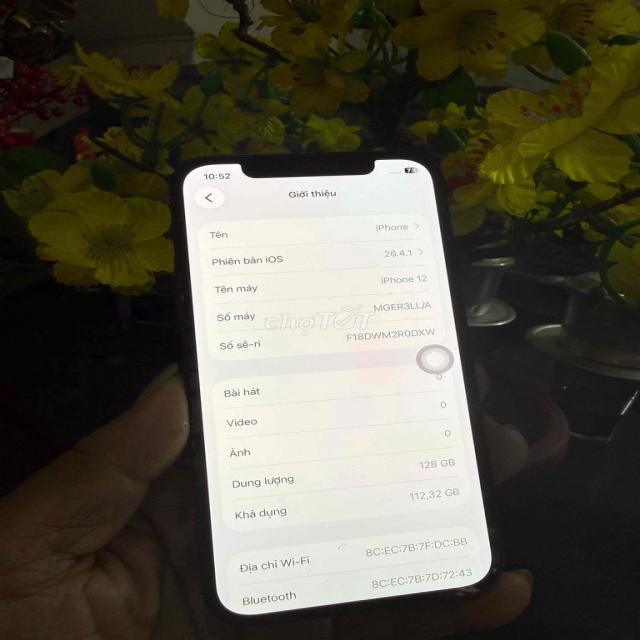gen_12_13: (170, 143, 500, 624)
